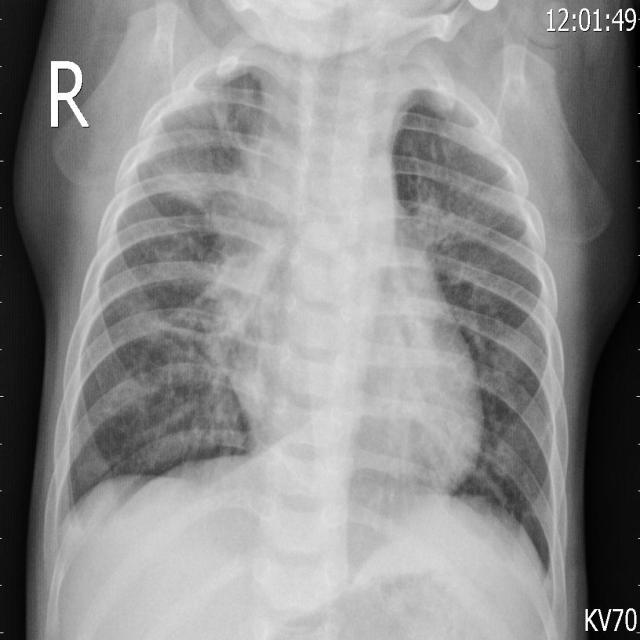low-pneumonia: (135, 337, 251, 475), (153, 75, 249, 221), (415, 153, 485, 282)
